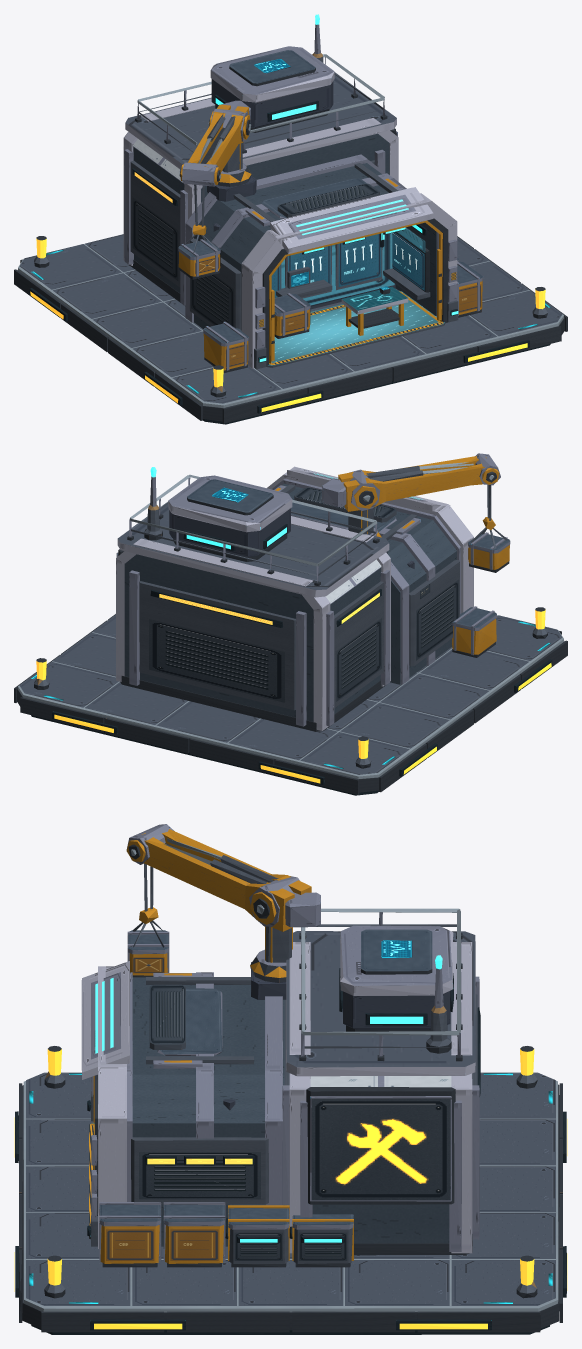
The model's file is TO02_TallerConGrua_Distancia.fbx.
3 views of the same model, one above another, from view 1: azimuth 30°, elevation 25°; view 2: azimuth 150°, elevation 25°; view 3: azimuth 270°, elevation 25° (orthographic). The views are drawn at different scales.
Parts seen in each view (by area): view 1: TallerDeObrasDistante_2; view 2: TallerDeObrasDistante_2; view 3: TallerDeObrasDistante_2.
Boxes of the visible parts, x1,y1,x2,y2 form: TallerDeObrasDistante_2: (14,14,567,424); TallerDeObrasDistante_2: (14,453,567,795); TallerDeObrasDistante_2: (14,824,567,1334).
Bounding box in the file's own units: 6.27 × 3.82 × 6.03.
